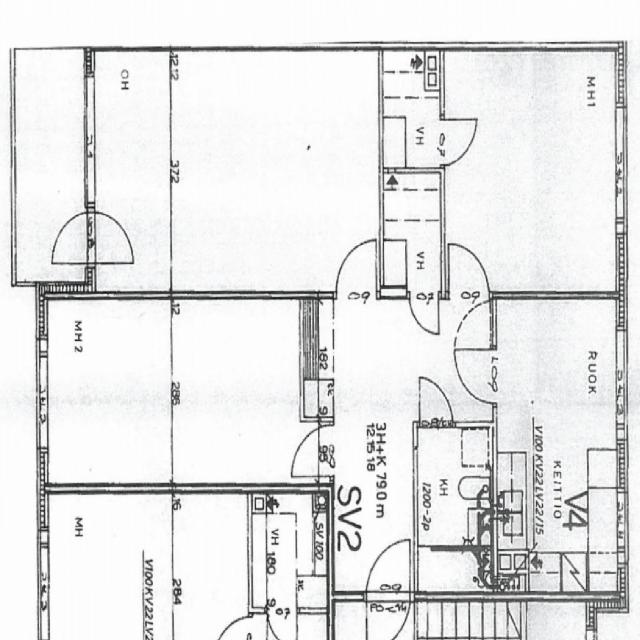door: (366, 535, 409, 601), (84, 212, 132, 263), (47, 212, 95, 263), (336, 239, 376, 299), (449, 239, 488, 299), (453, 350, 496, 402), (366, 592, 409, 640), (292, 426, 334, 475), (420, 377, 453, 428), (440, 120, 478, 164), (410, 291, 439, 338)
